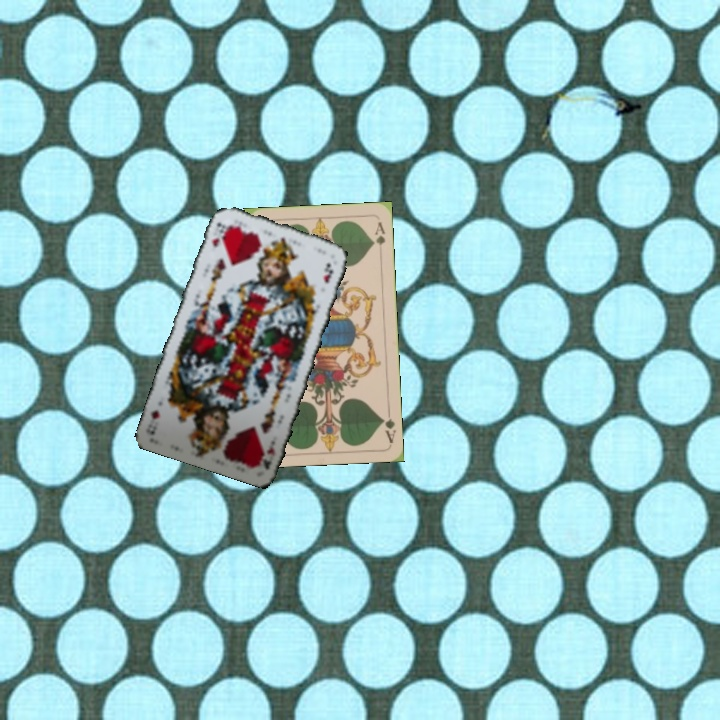GA: (378, 405, 398, 446)
HK: (255, 437, 278, 473), (208, 218, 228, 250)
